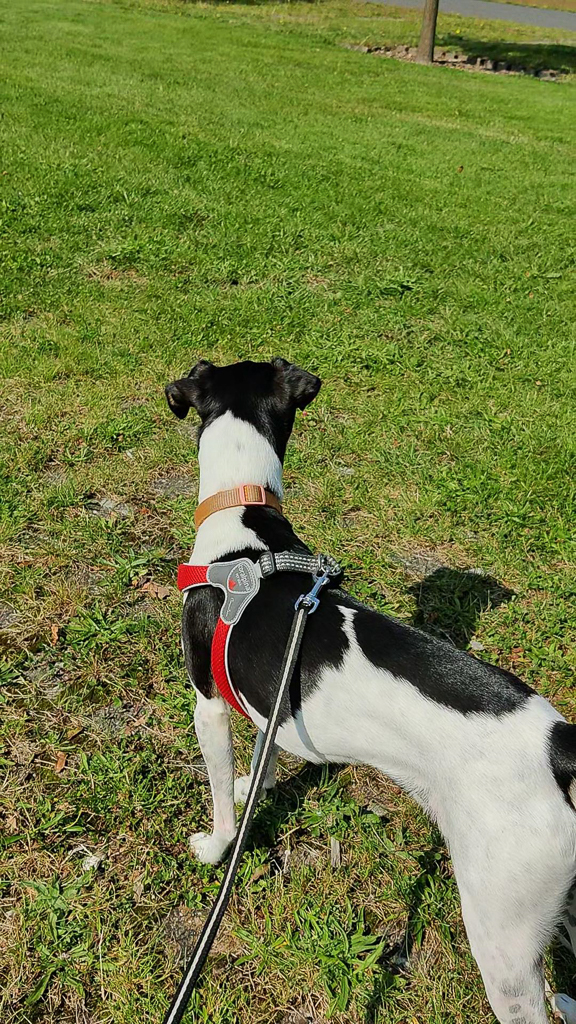Dog: (137, 312, 576, 1024)
